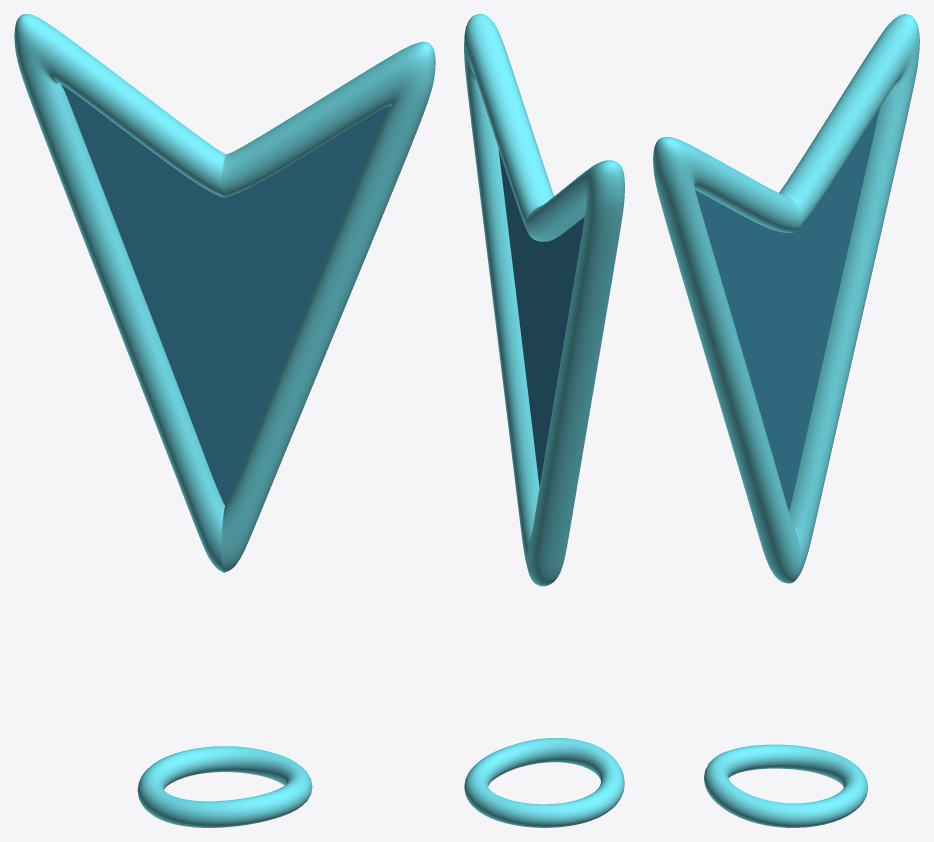
Rendered from arrow_blue.obj.
The picture shows the model from 3 angles, left to right: view 1: azimuth 30°, elevation 25°; view 2: azimuth 150°, elevation 25°; view 3: azimuth 270°, elevation 25°; orthographic projection. The views are drawn at different scales.
Parts seen in each view (by area): view 1: arrow; view 2: arrow; view 3: arrow.
Part boxes in pixels (x1,y1,x2,y2): arrow: [14, 14, 435, 827]; arrow: [464, 14, 624, 827]; arrow: [653, 14, 919, 827].
Bounding box in the file's own units: 0.7385 × 1.86 × 0.6229.
1 material, 1 textured.
